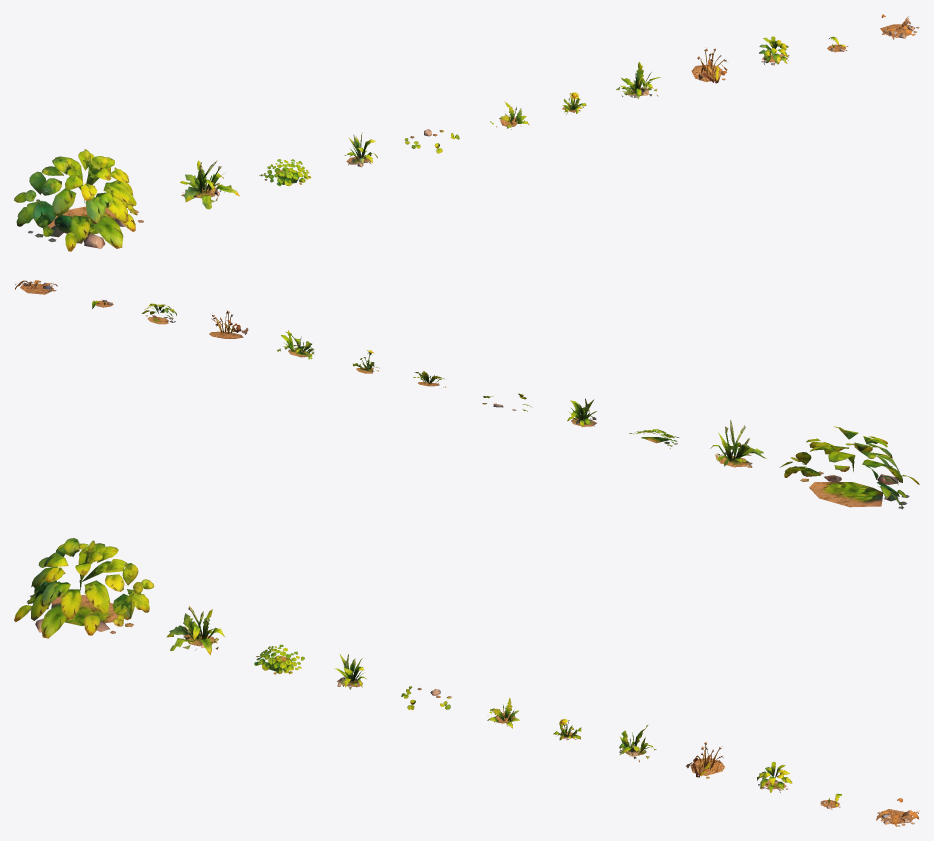
File: plants.glb
3 renders of one model, top to bottom at view 1: azimuth 30°, elevation 25°; view 2: azimuth 150°, elevation 25°; view 3: azimuth 330°, elevation 25°, orthographic.
Parts seen in each view (by area): view 1: plant_bush_round, plant_weed_leafy, plant_clover_patch, plant_dry_pile, plant_weed_tall_a, plant_weed_small, plant_weed_tall_b; view 2: plant_bush_round, plant_weed_leafy, plant_weed_tall_b, plant_dry_pile; view 3: plant_bush_round, plant_weed_leafy, plant_clover_patch, plant_dry_pile, plant_weed_small.
Part boxes in pixels (x1,y1,x2,y2): plant_bush_round: (14,149,143,251); plant_weed_leafy: (180,160,239,209); plant_clover_patch: (259,159,311,186); plant_dry_pile: (691,48,727,83); plant_weed_tall_a: (616,62,660,98); plant_weed_small: (759,36,789,65); plant_weed_tall_b: (344,132,377,167); plant_bush_round: (780,426,919,509); plant_weed_leafy: (710,420,766,467); plant_weed_tall_b: (567,398,596,427); plant_dry_pile: (209,310,248,338); plant_bush_round: (14,538,154,638); plant_weed_leafy: (166,606,224,654); plant_clover_patch: (254,644,304,674); plant_dry_pile: (686,742,724,778); plant_weed_small: (757,762,792,792).
Size of the model in its own units: 10.19 by 0.7661 by 1.17.
Materials: 1 (1 with a texture image).
